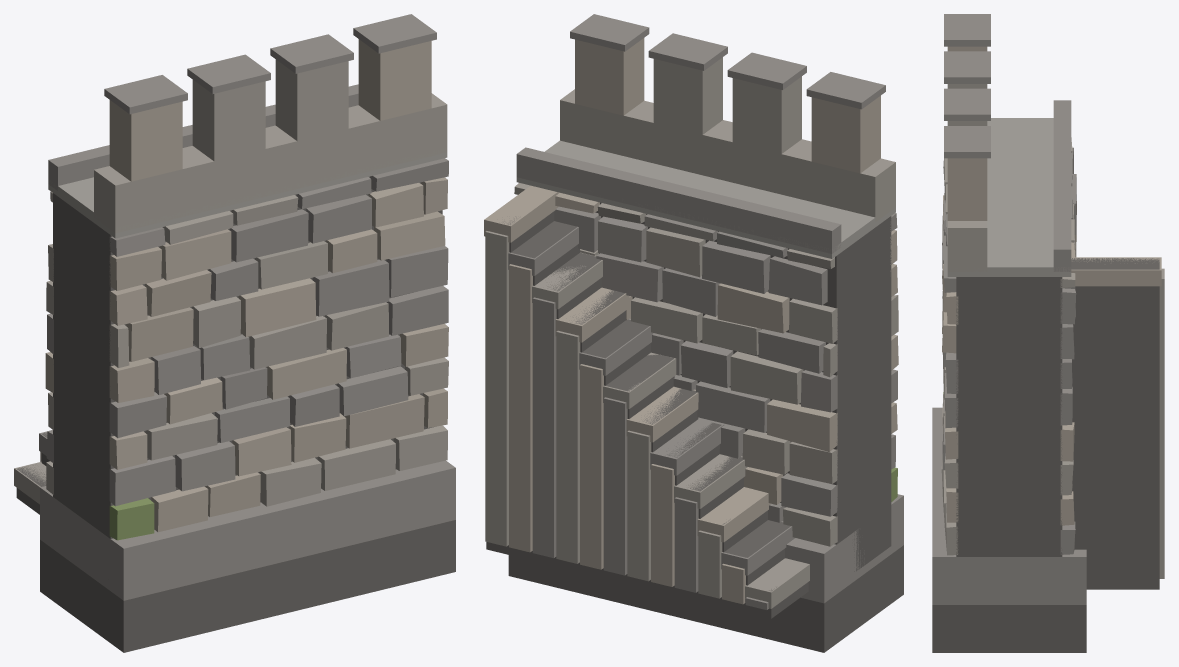
The model's file is SM_Wall_Stairs.fbx.
3 renders of one model, left to right at view 1: azimuth 30°, elevation 25°; view 2: azimuth 150°, elevation 25°; view 3: azimuth 270°, elevation 25°, orthographic. The views are drawn at different scales.
Parts seen in each view (by area): view 1: SM_Wall_Stairs; view 2: SM_Wall_Stairs; view 3: SM_Wall_Stairs.
Part boxes in pixels (<box>): SM_Wall_Stairs: <box>14,14,455,652</box>; SM_Wall_Stairs: <box>484,14,903,652</box>; SM_Wall_Stairs: <box>932,14,1164,652</box>.
Bounding box in the file's own units: 4 × 6.19 × 2.63.
